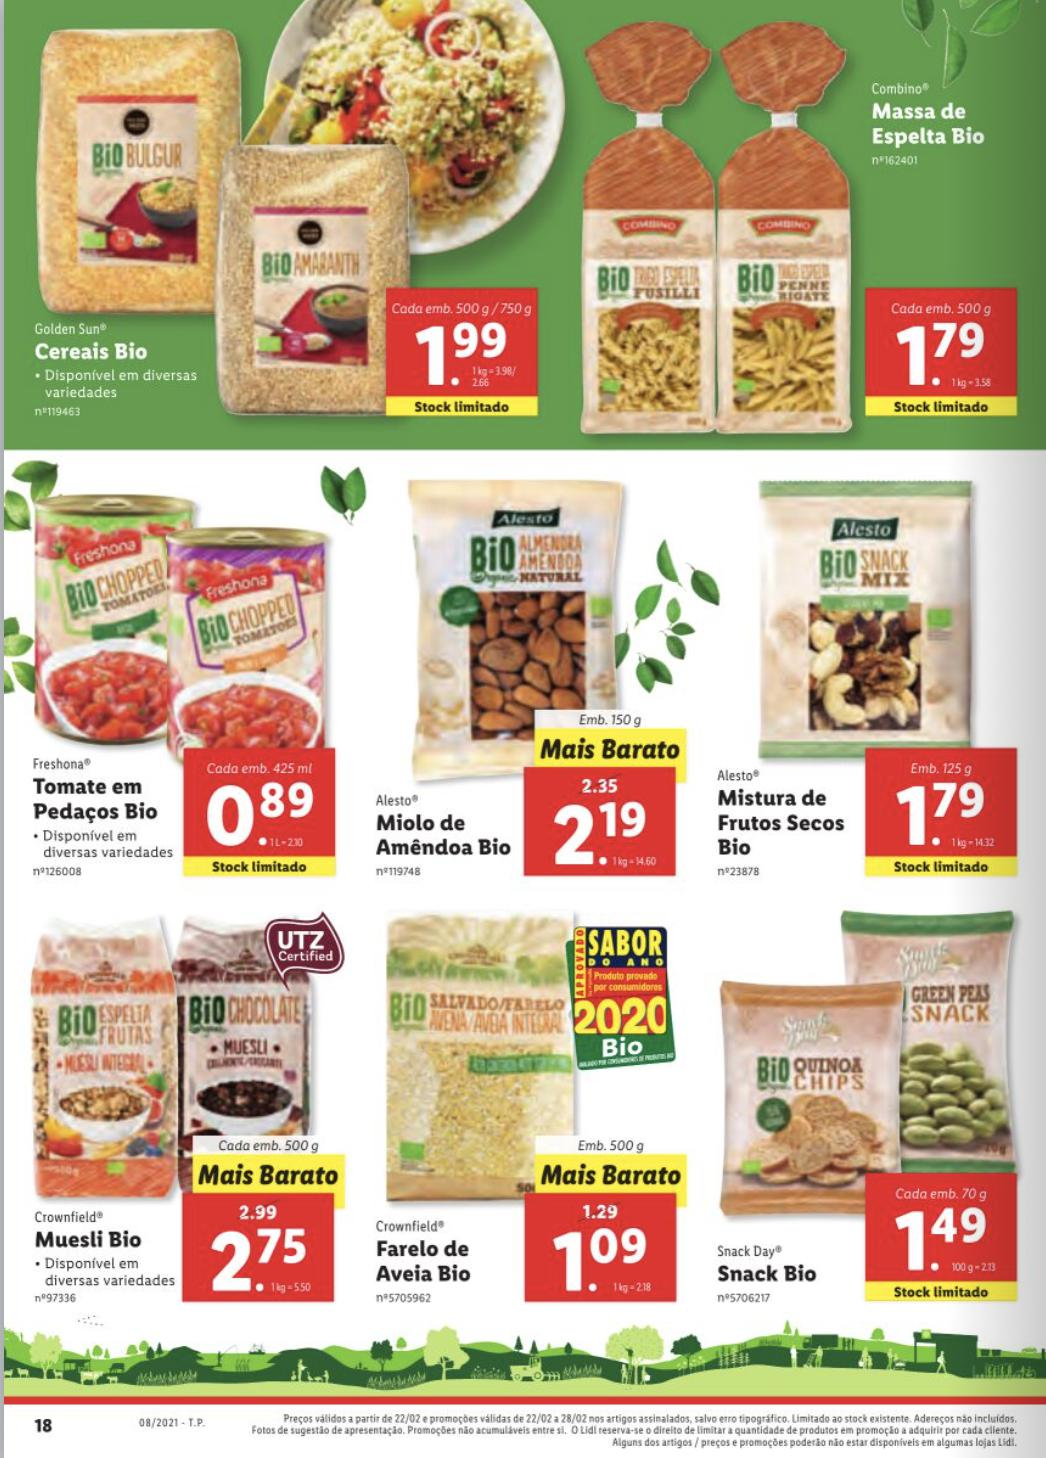name: (715, 783, 850, 857), (22, 767, 163, 826), (370, 808, 517, 863), (866, 103, 991, 152), (372, 1240, 479, 1286), (33, 341, 148, 368), (712, 1263, 826, 1290), (32, 1225, 148, 1250)
price: (208, 779, 315, 854), (550, 795, 652, 870), (211, 1224, 315, 1295), (555, 1217, 648, 1295), (895, 1203, 992, 1277), (892, 781, 988, 850), (899, 319, 986, 388), (415, 321, 504, 388)
product: (15, 15, 571, 432), (578, 19, 1026, 444), (12, 473, 370, 890), (703, 884, 1039, 1323), (12, 887, 350, 1324), (350, 893, 686, 1324), (701, 468, 1039, 884), (379, 475, 686, 893)
